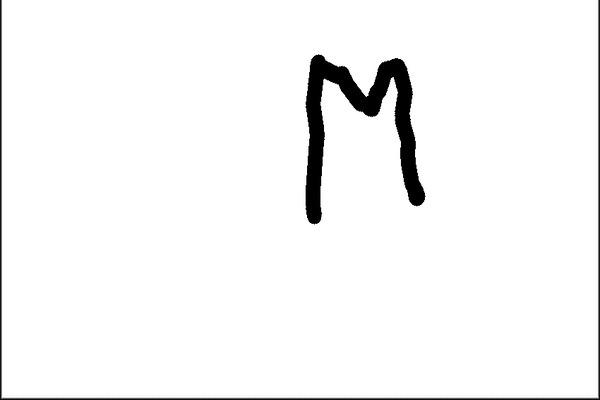M: (300, 45, 430, 229)
